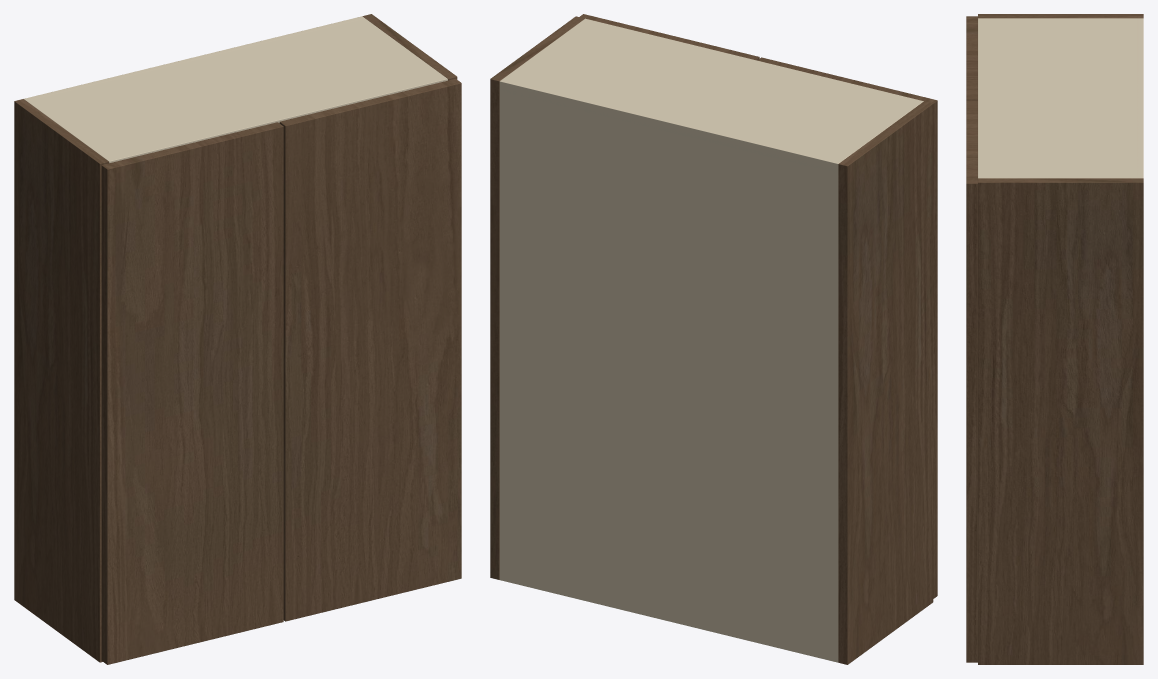
Rendered from oppein-ply-mso-w2736.glb.
The picture shows the model from 3 angles, left to right: view 1: azimuth 30°, elevation 25°; view 2: azimuth 150°, elevation 25°; view 3: azimuth 270°, elevation 25°; orthographic projection. The views are drawn at different scales.
Parts seen in each view (by area): view 1: Door, Door.001, Cabinet side, Cabinet top, Cabinet back, Cabinet side.001; view 2: Cabinet back, Cabinet side, Cabinet top, Cabinet side.001, Door, Door.001; view 3: Cabinet side.001, Cabinet top, Door.001, Cabinet back, Door, Cabinet side.
Boxes of the visible parts, x1,y1,x2,y2 form: Door: (101, 122, 283, 664); Door.001: (279, 78, 461, 621); Cabinet side: (14, 99, 108, 662); Cabinet top: (24, 18, 447, 163); Cabinet back: (24, 16, 364, 100); Cabinet side.001: (362, 14, 457, 80); Cabinet back: (499, 79, 841, 662); Cabinet side: (838, 101, 933, 664); Cabinet top: (500, 18, 923, 171); Cabinet side.001: (490, 16, 584, 579); Door: (757, 57, 937, 598); Door.001: (579, 14, 759, 60); Cabinet side.001: (978, 178, 1143, 664); Cabinet top: (978, 18, 1143, 178); Door.001: (966, 100, 977, 662); Cabinet back: (1137, 18, 1143, 178); Door: (966, 16, 977, 100); Cabinet side: (978, 14, 1143, 18).
Size of the model in its own units: 0.6858 by 0.9144 by 0.3048.
2 materials, 1 textured.
